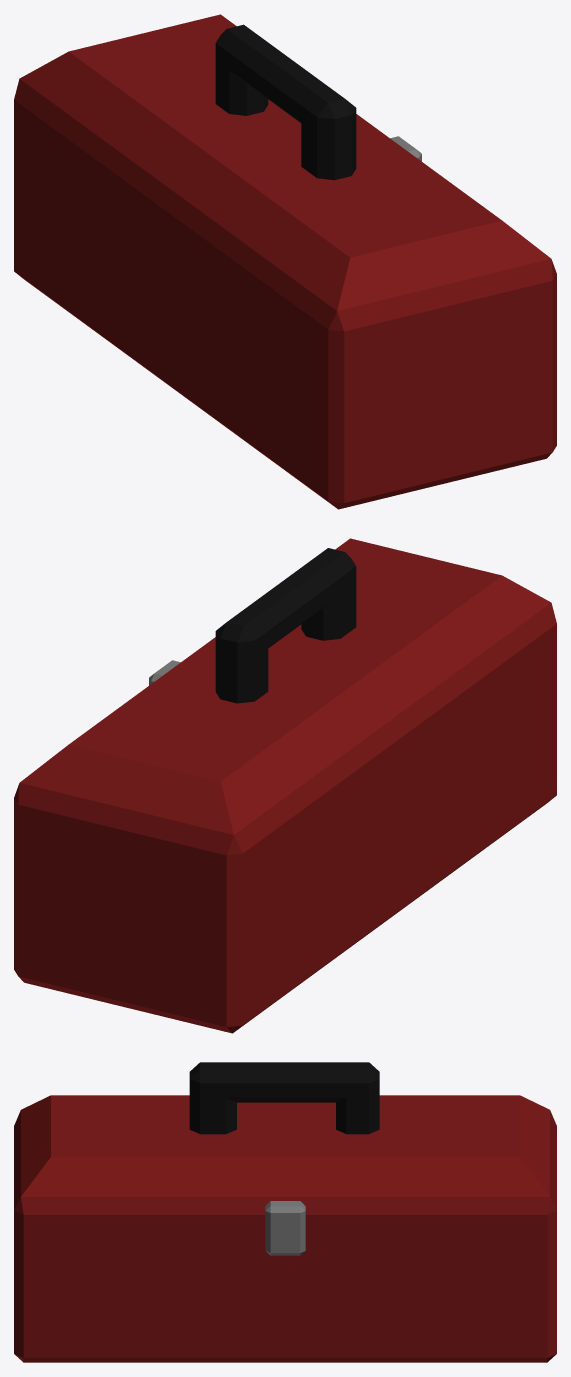
Rendered from toolbox.glb.
3 views of the same model, one above another, from view 1: azimuth 30°, elevation 25°; view 2: azimuth 150°, elevation 25°; view 3: azimuth 270°, elevation 25° (orthographic). The views are drawn at different scales.
Parts seen in each view (by area): view 1: Toolbox; view 2: Toolbox; view 3: Toolbox.
Boxes of the visible parts, x1=… form: Toolbox: x1=14, y1=14, x2=556, y2=509; Toolbox: x1=14, y1=538, x2=556, y2=1033; Toolbox: x1=14, y1=1062, x2=556, y2=1362.
Bounding box in the file's own units: 0.2356 × 0.2845 × 0.55.
